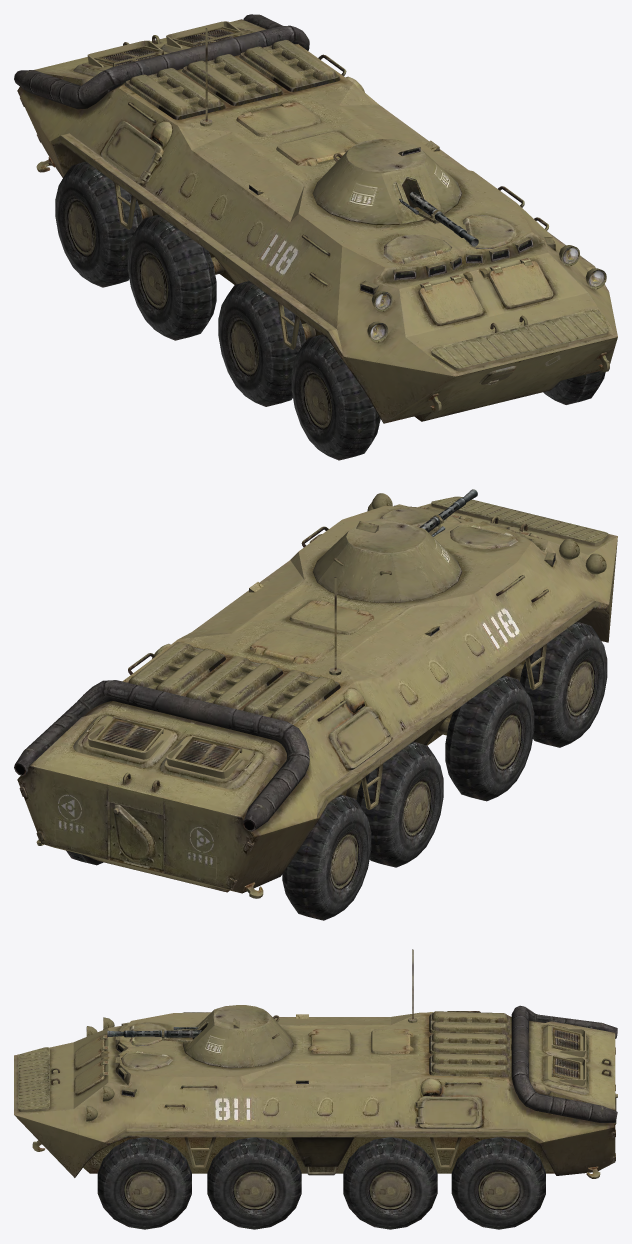
File: btr-70.glb
The picture shows the model from 3 angles, top to bottom: view 1: azimuth 30°, elevation 25°; view 2: azimuth 150°, elevation 25°; view 3: azimuth 270°, elevation 25°; orthographic projection. The views are drawn at different scales.
Visible parts, largest first — view 1: BTR_vehicle_material01_0; view 2: BTR_vehicle_material01_0; view 3: BTR_vehicle_material01_0.
Boxes of the visible parts, left/top/right/bottom form: BTR_vehicle_material01_0: left=14, top=14, right=617, bottom=460; BTR_vehicle_material01_0: left=14, top=489, right=617, bottom=920; BTR_vehicle_material01_0: left=14, top=949, right=617, bottom=1229.
Size of the model in its own units: 2.92 by 2.93 by 7.57.
1 material, 1 textured.
